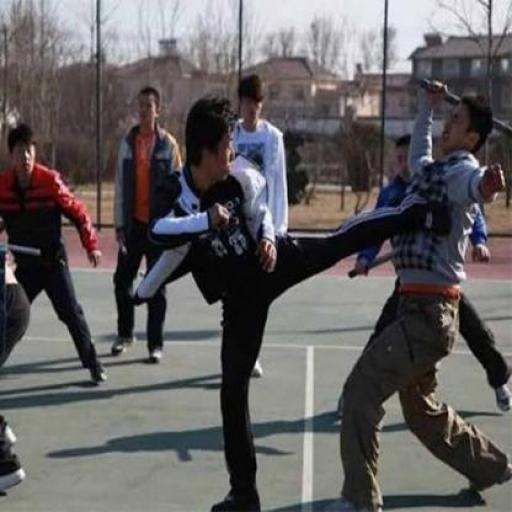Fighting: (147, 77, 512, 508)
